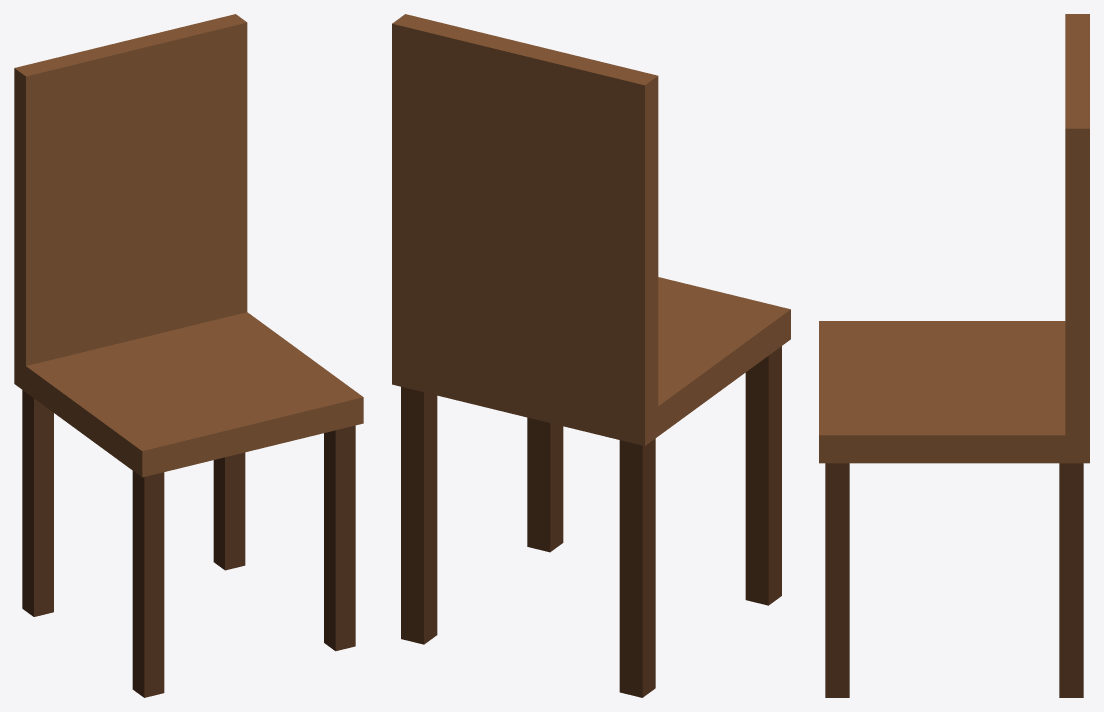
The model's file is chair.glb.
The picture shows the model from 3 angles, left to right: view 1: azimuth 30°, elevation 25°; view 2: azimuth 150°, elevation 25°; view 3: azimuth 270°, elevation 25°; orthographic projection. The views are drawn at different scales.
Parts seen in each view (by area): view 1: chair-8a5a35, chair-5e3b22; view 2: chair-8a5a35, chair-5e3b22; view 3: chair-8a5a35, chair-5e3b22.
Part boxes in pixels (x1,y1,x2,y2): chair-8a5a35: (14, 14, 363, 477); chair-5e3b22: (22, 390, 355, 697); chair-8a5a35: (392, 14, 790, 445); chair-5e3b22: (401, 346, 781, 697); chair-8a5a35: (819, 14, 1089, 463); chair-5e3b22: (825, 463, 1083, 697).
Bounding box in the file's own units: 0.44 × 1.02 × 0.44.
